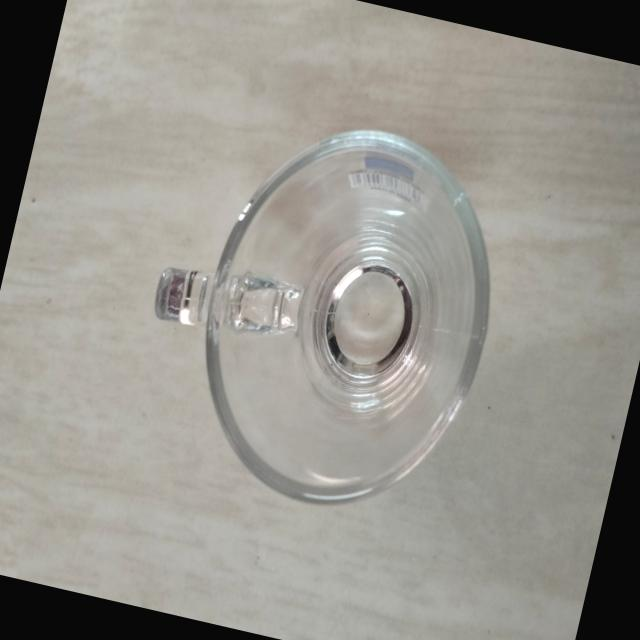glass-VX4N: (118, 90, 525, 534)
